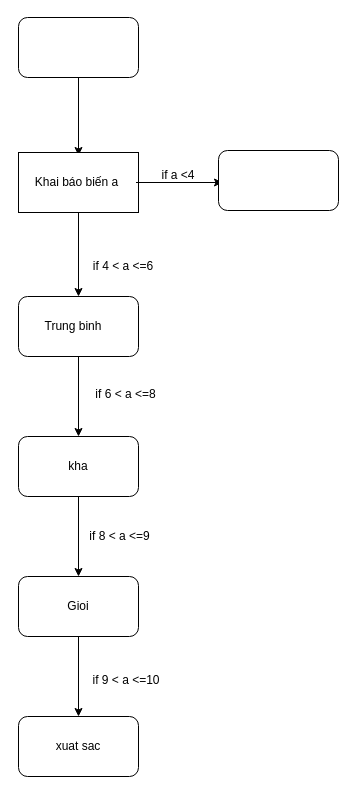
Some shapes in this 356 by 794 pixel diagram are drawn without their labels. The shapes that lost their labels are listed below. From the top down, each one's centre as x and y in pixels, then its label:
pixel 78 47: start
pixel 278 180: khong dat
